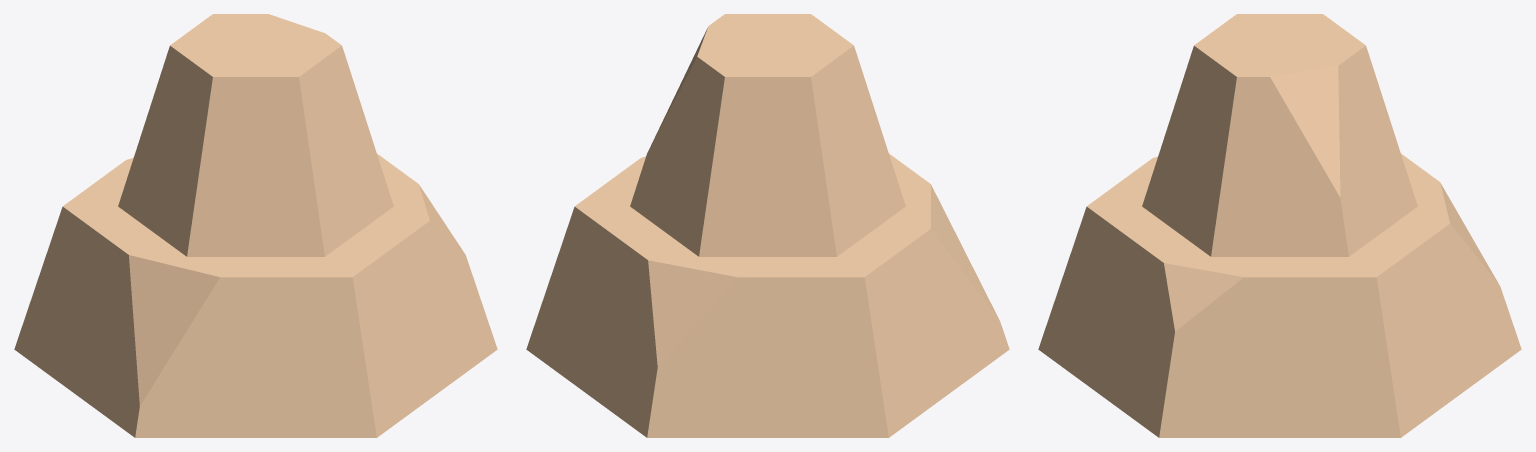
Rendered from rock_small6.fbx.
The picture shows the model from 3 angles, left to right: view 1: azimuth 30°, elevation 25°; view 2: azimuth 150°, elevation 25°; view 3: azimuth 270°, elevation 25°; orthographic projection.
Parts seen in each view (by area): view 1: rock_small6; view 2: rock_small6; view 3: rock_small6.
Part boxes in pixels (box(x1,y1,x2,y2)): rock_small6: box(14, 14, 497, 437); rock_small6: box(526, 14, 1009, 437); rock_small6: box(1038, 14, 1521, 437).
Bounding box in the file's own units: 91.86 × 73.6 × 106.
